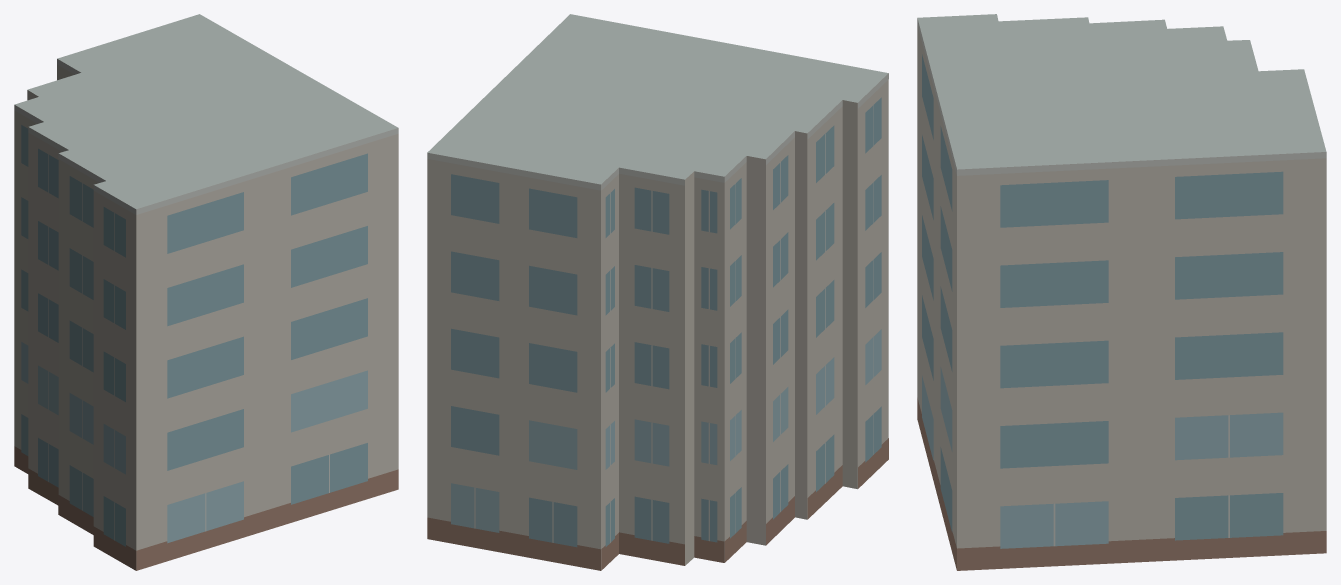
File: survey-upis-32884022.glb
The picture shows the model from 3 angles, left to right: view 1: azimuth 30°, elevation 25°; view 2: azimuth 150°, elevation 25°; view 3: azimuth 270°, elevation 25°; orthographic projection. The views are drawn at different scales.
Parts seen in each view (by area): view 1: survey-upis-32884022.tmp; view 2: survey-upis-32884022.tmp; view 3: survey-upis-32884022.tmp.
Boxes of the visible parts, <box> form: survey-upis-32884022.tmp: <box>14,14,398,570</box>; survey-upis-32884022.tmp: <box>427,14,888,570</box>; survey-upis-32884022.tmp: <box>917,14,1326,570</box>.
Bounding box in the file's own units: 12.72 × 15.3 × 14.14.
